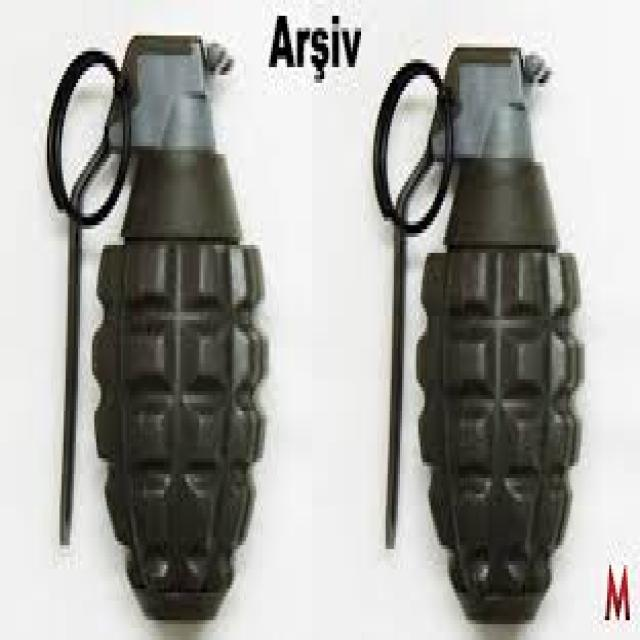grenade: (43, 24, 275, 635)
